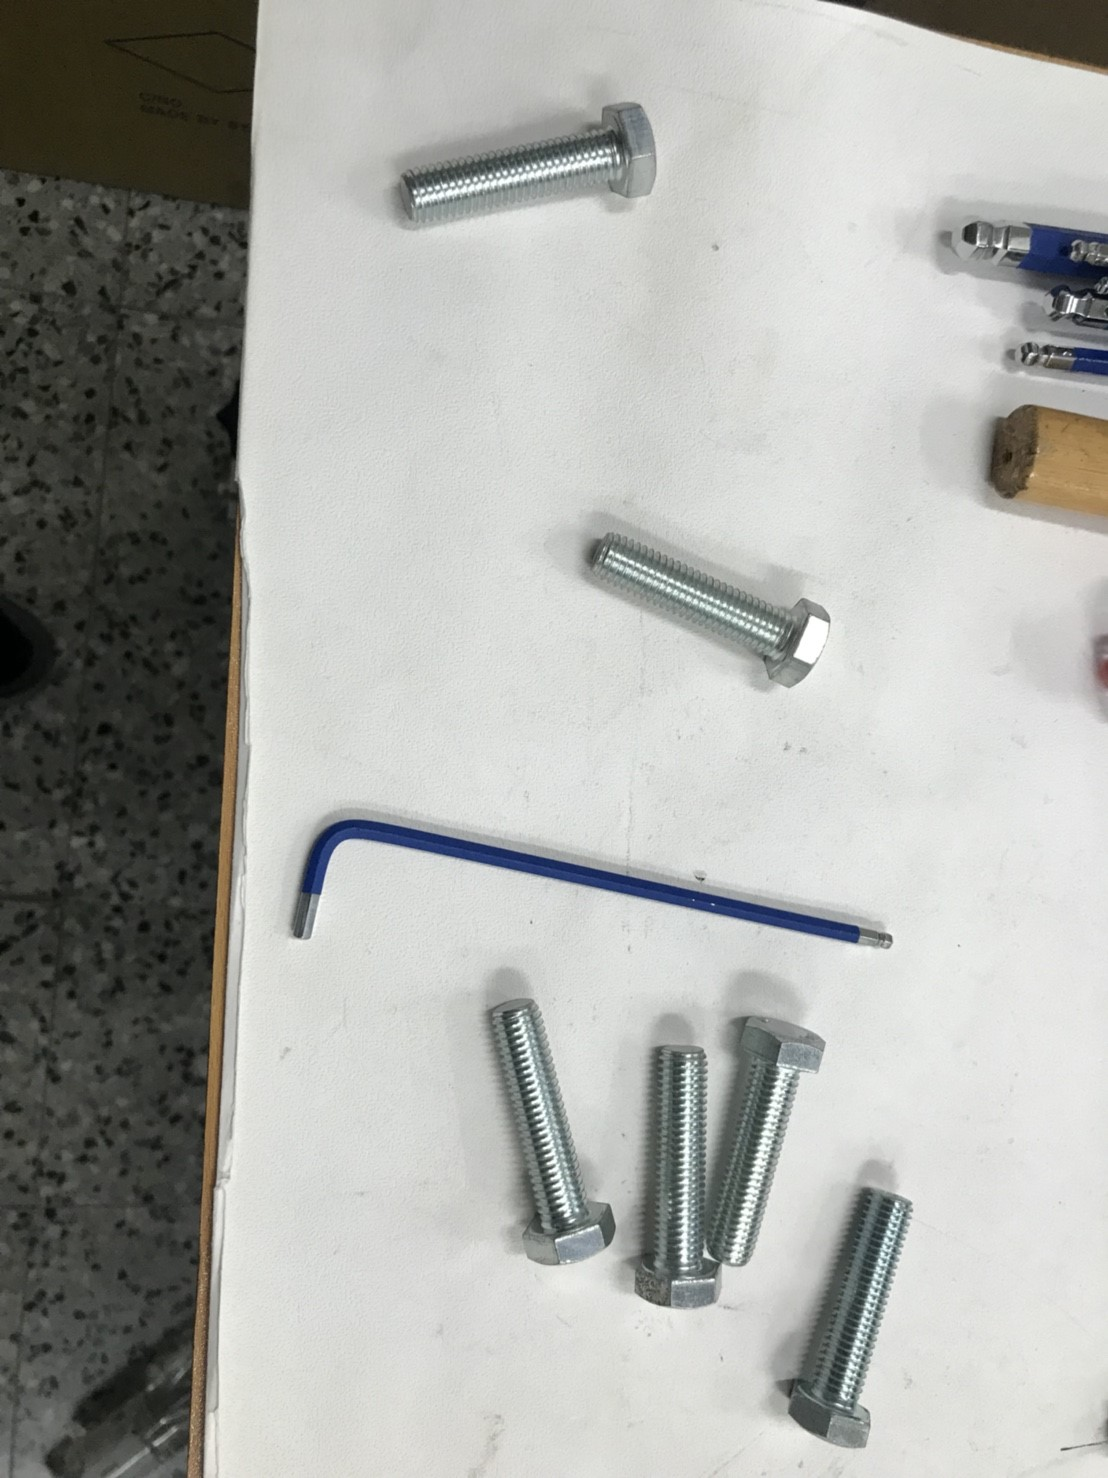screw: (371, 83, 688, 251), (468, 974, 622, 1270), (577, 527, 843, 689), (786, 1168, 917, 1455), (711, 1006, 832, 1274), (628, 1026, 729, 1321)
